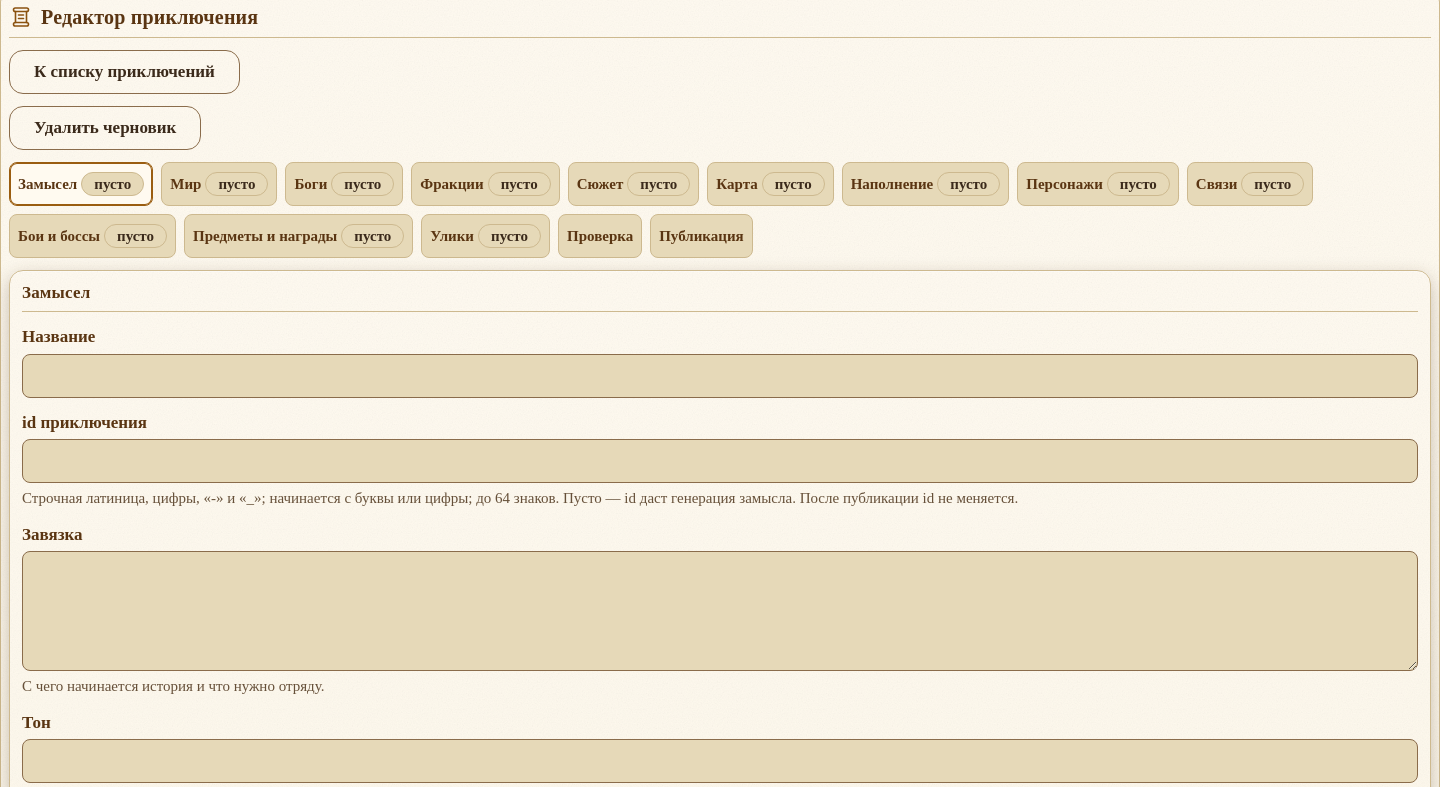
Test case: экран «Проверка» › сбой проверки — текст сервера и «Повторить»
Step 1. Click the button "Проверка" → (600, 236), box [558,214,642,258]
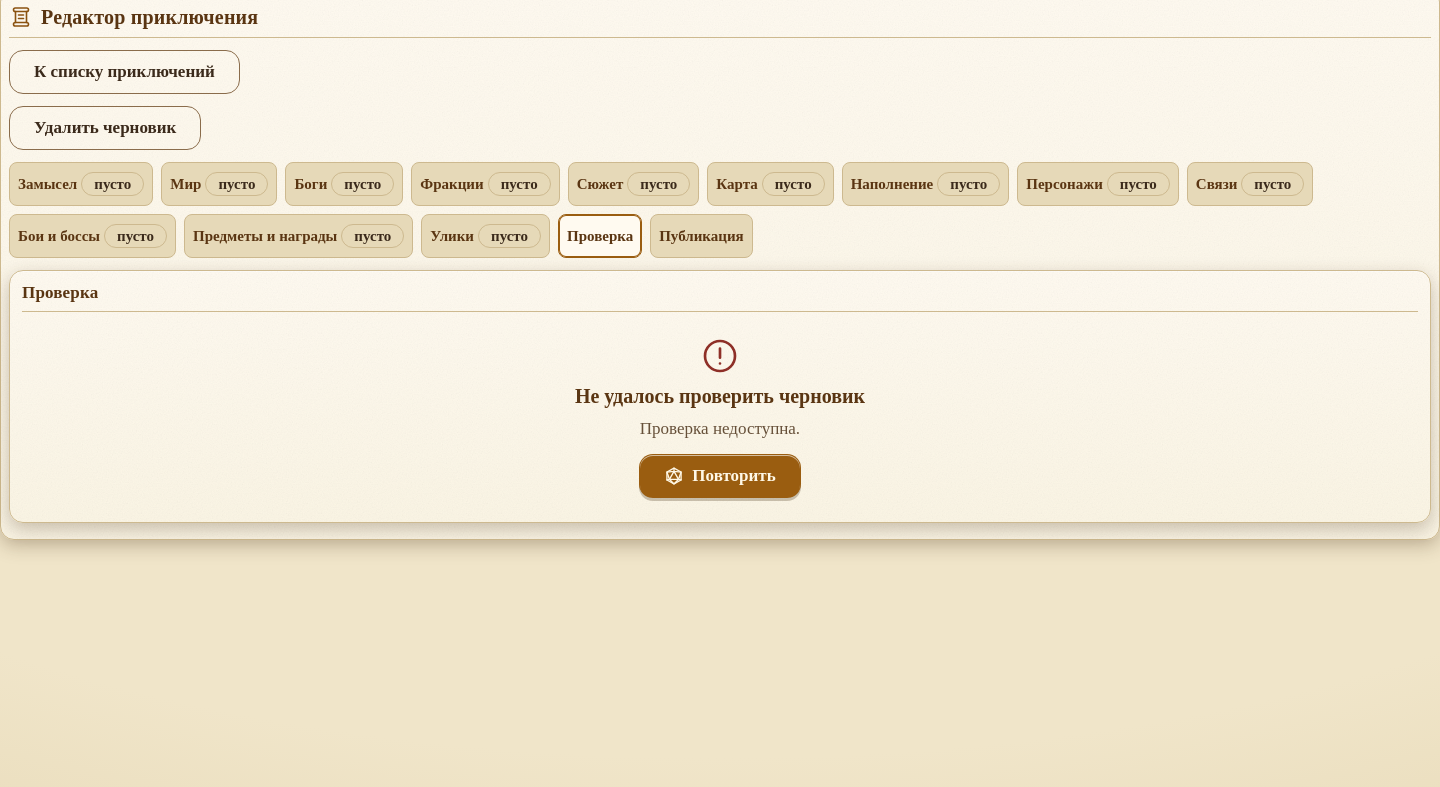
Now the message shows "Проверка недоступна.", box [640,419,800,438]
Step 2. Click the button "Повторить" → (720, 476), box [639,454,801,498]
(page scrolled)
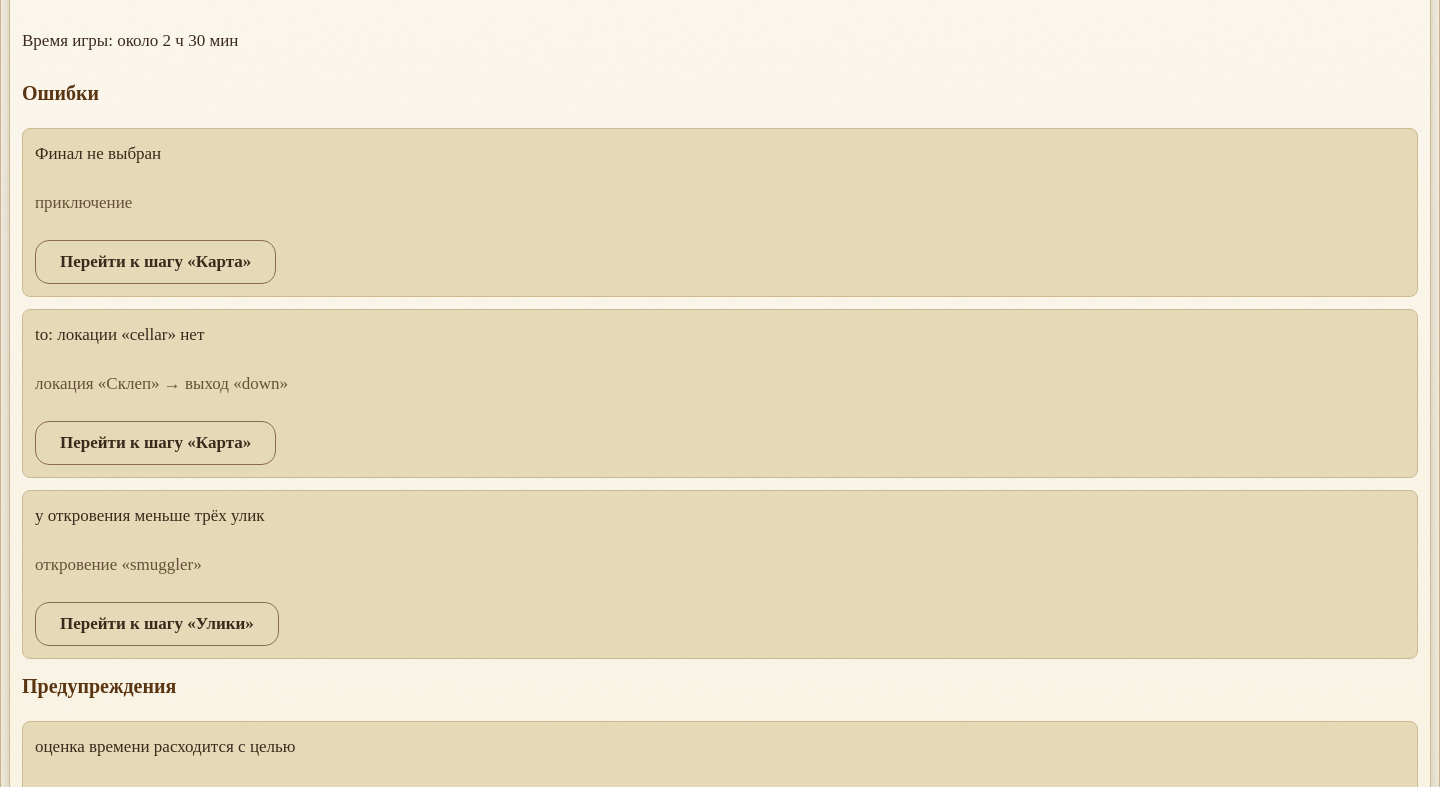
Now the list named "Ошибки" is shown
